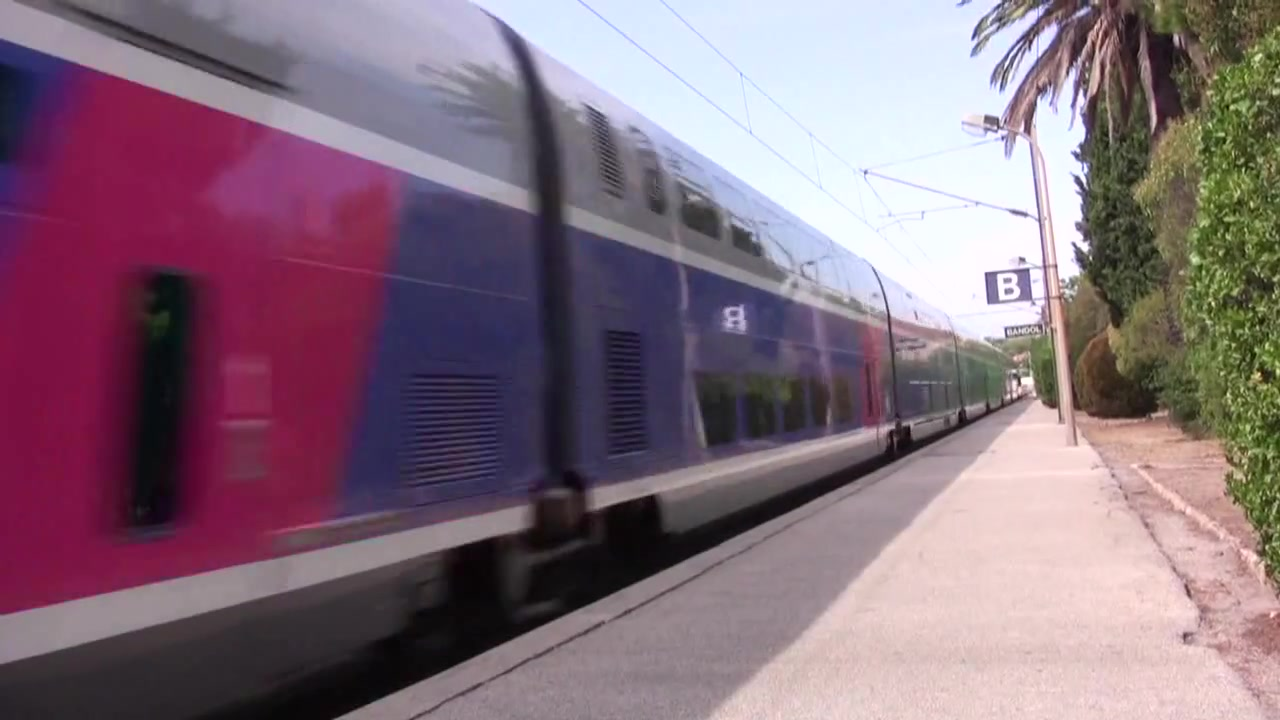train: (1, 1, 1022, 720)
